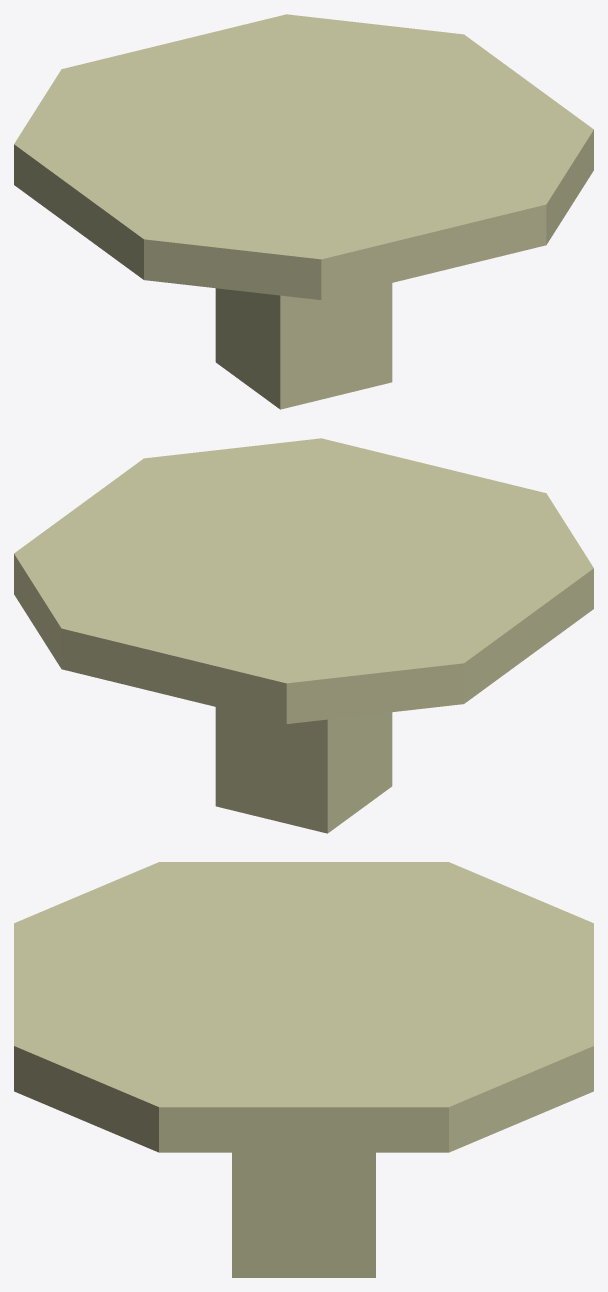
The model's file is table.fbx.
3 views of the same model, one above another, from view 1: azimuth 30°, elevation 25°; view 2: azimuth 150°, elevation 25°; view 3: azimuth 270°, elevation 25° (orthographic). The views are drawn at different scales.
Visible parts, largest first — view 1: Plane.041; view 2: Plane.041; view 3: Plane.041.
Part boxes in pixels (x1,y1,x2,y2): Plane.041: (14,14,593,409); Plane.041: (14,438,593,833); Plane.041: (14,862,593,1277).
Size of the model in its own units: 200 by 100 by 200.
